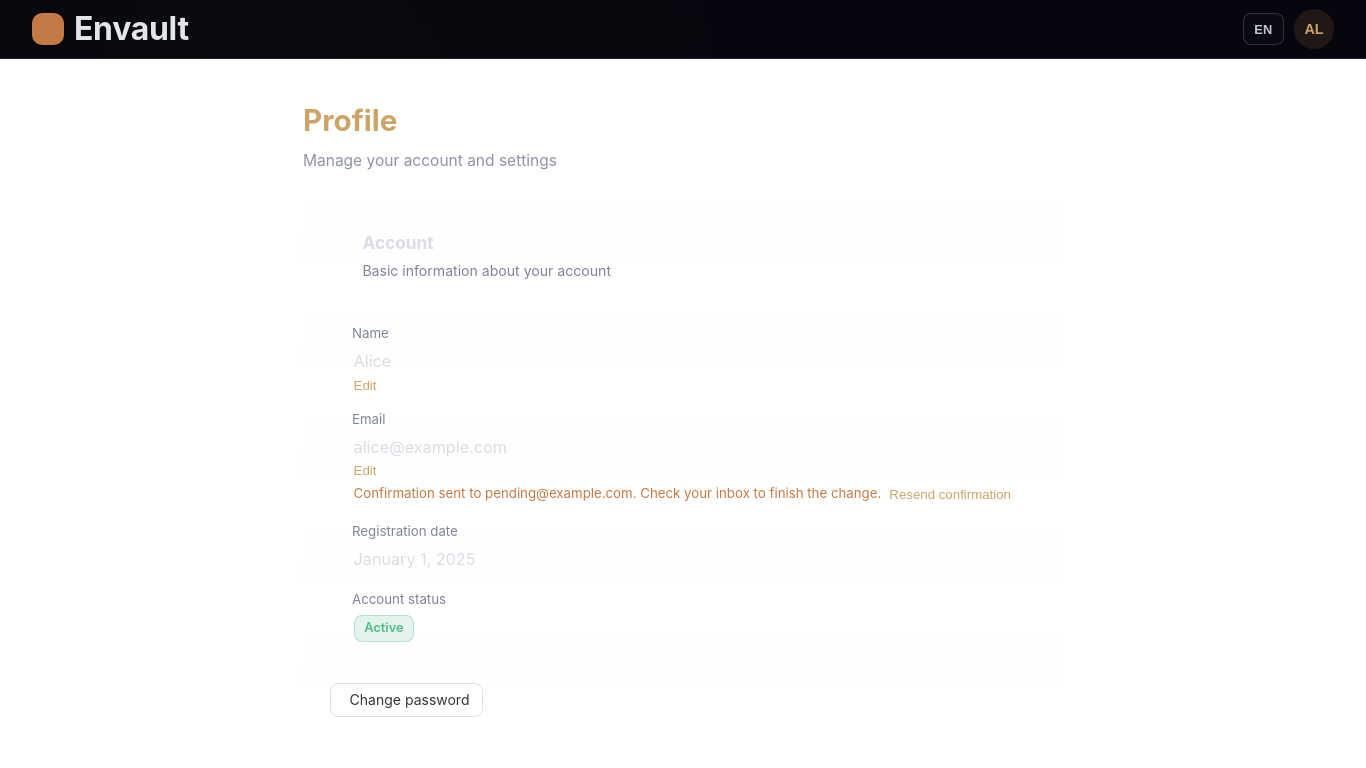
Test case: ProfileView.vue › email form › shows a cancellation message, not a success one, when resubmitting the current confirmed address
Click the button with class "edit-link" below "alice@example.com" at (365, 470), box [354,463,376,478]
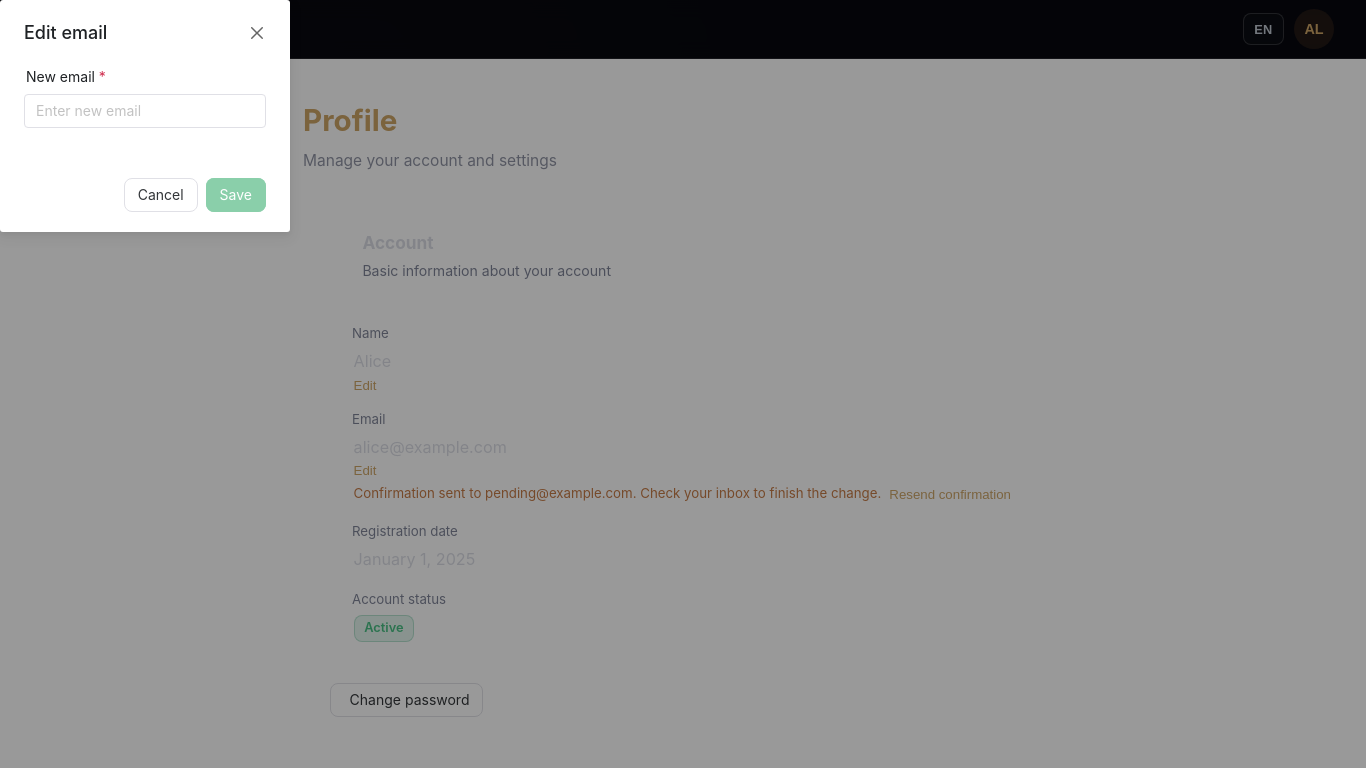
Type "alice@example.com" into the field with placeholder "Enter new email" at (145, 111), box [36,94,254,128]
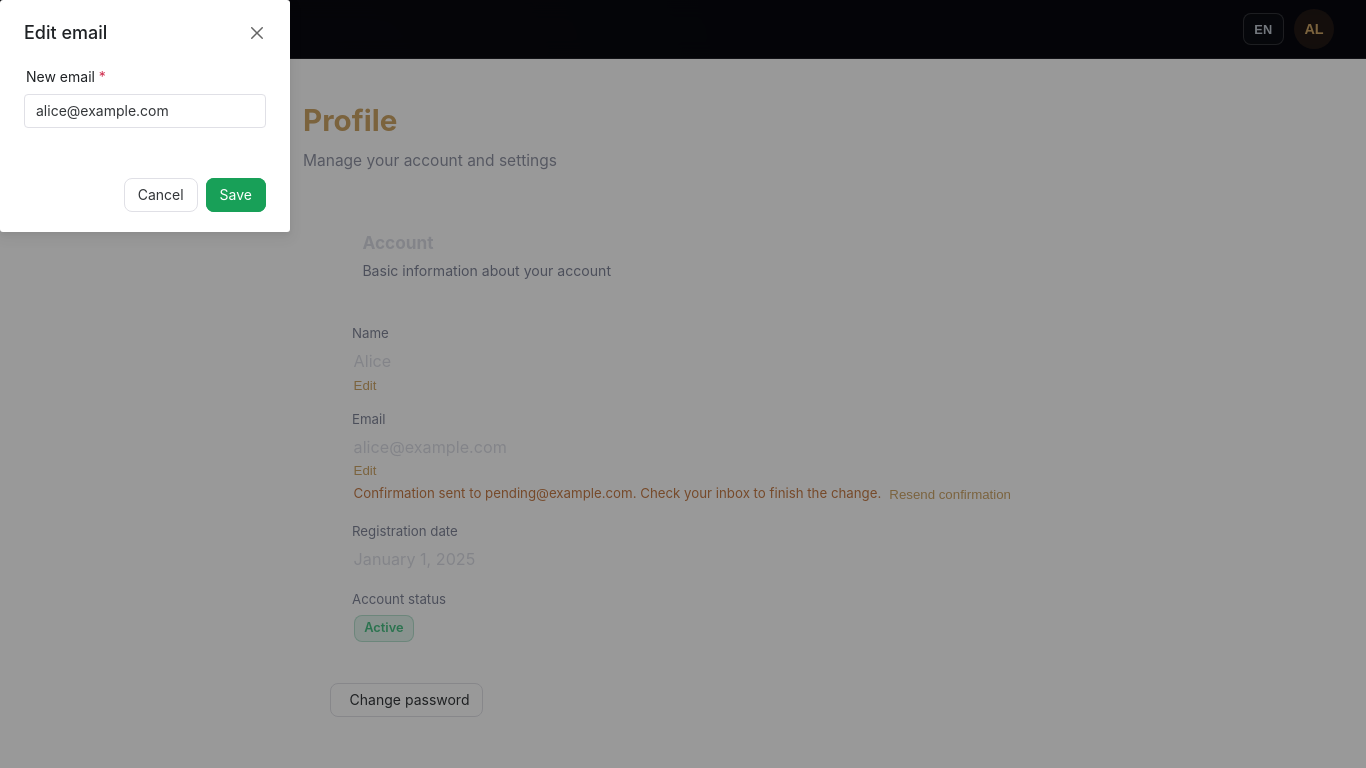
Click the button "Save" at (236, 195), box [206,178,266,212]
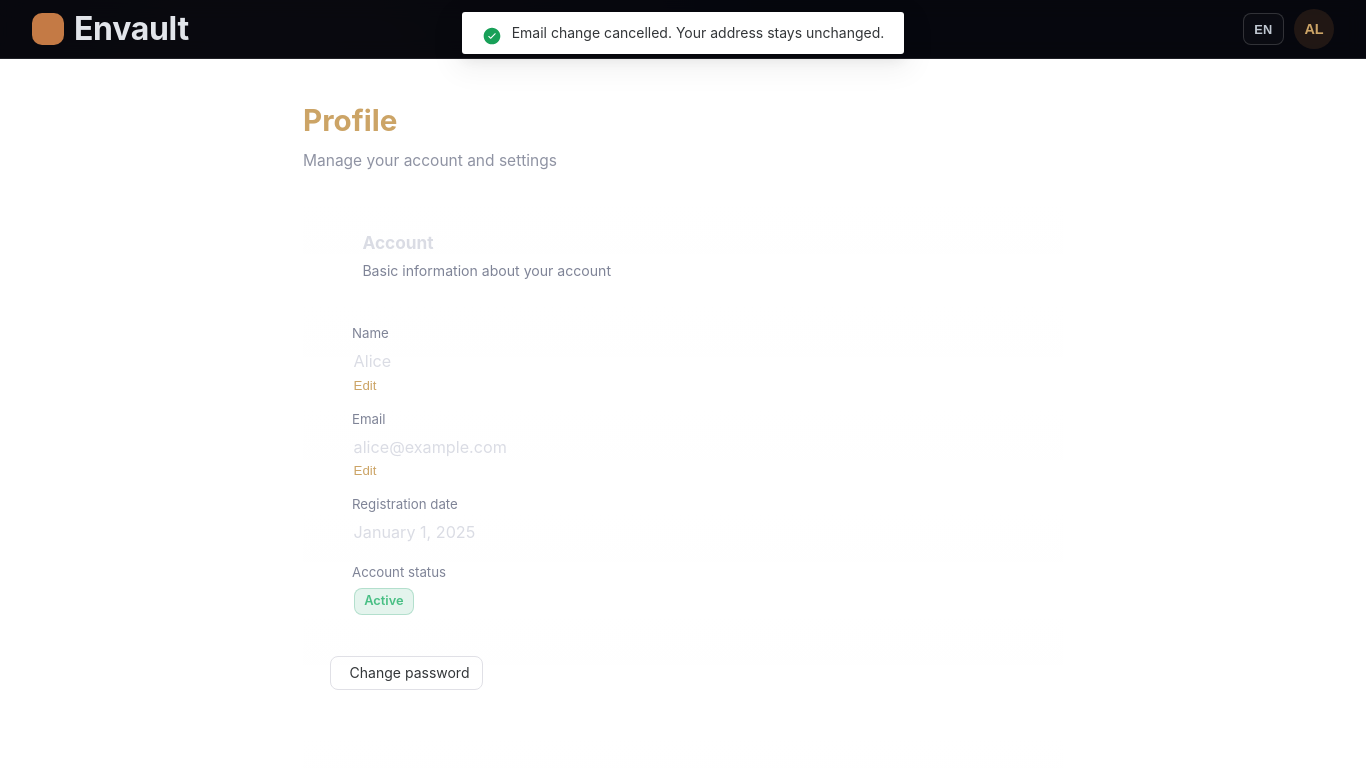
Result: the text "Email change cancelled" is shown at [512,24,884,41]
